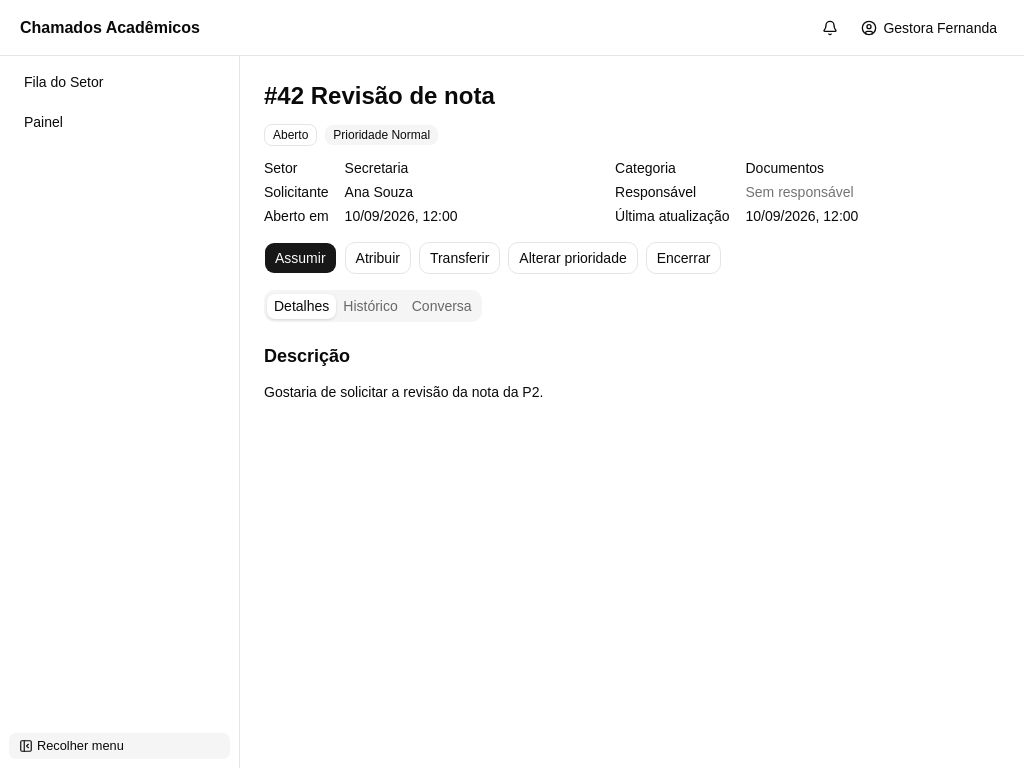
it: AssignDialog (BR8.5, US3.1) › assigns the chosen person and closes the dialog
Expected: the heading "#42 Revisão de nota" is shown, 264,82 -> 495,109
Click the button with test id "ticket-actions-assign-button". click: (378, 258)
box: 345,242 -> 411,274
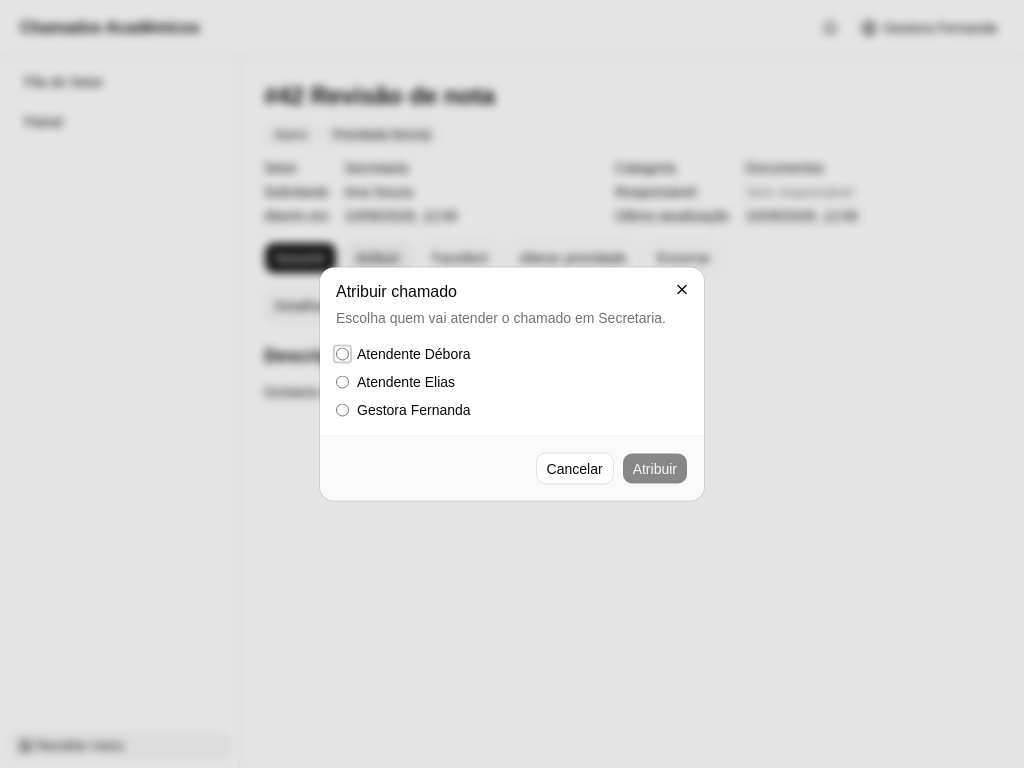
Click the radio button labelled "Atendente Elias". click: (342, 382)
box: 336,375 -> 349,388
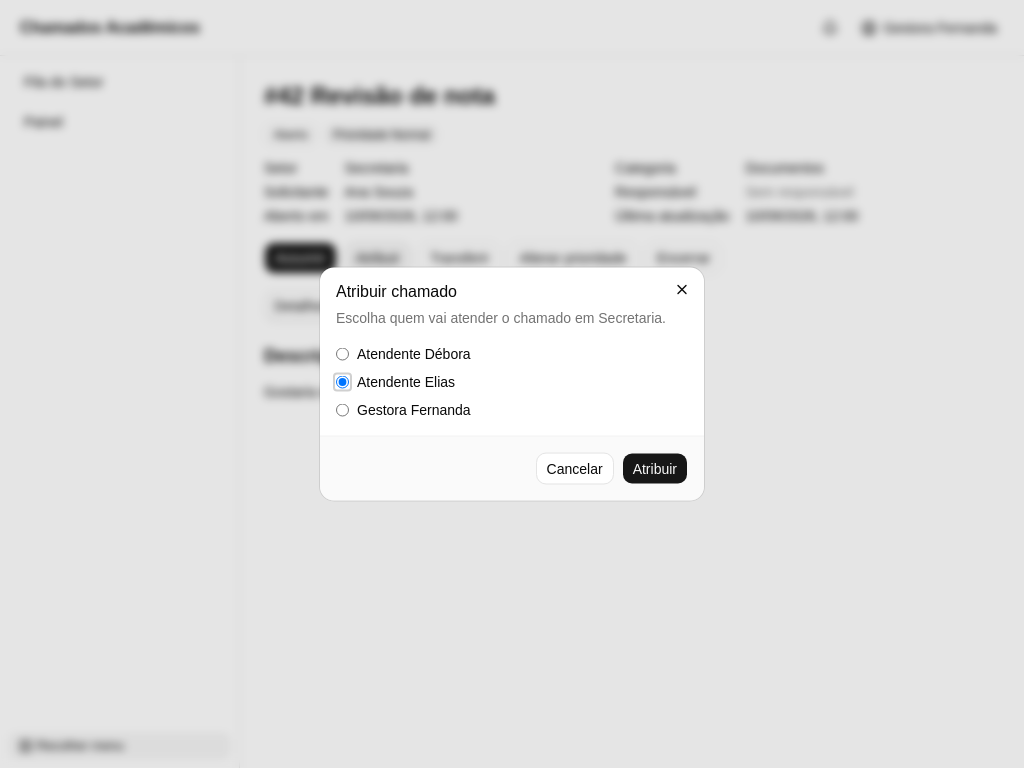
Click the button "Atribuir". click: (655, 468)
box: 622,452 -> 688,484
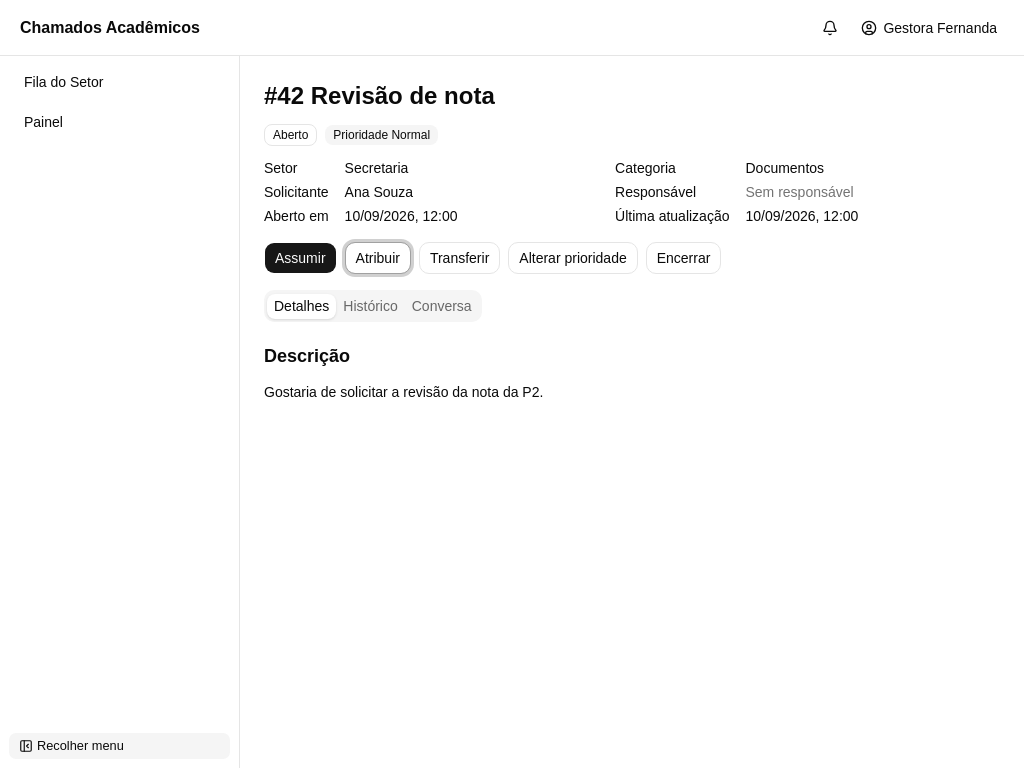
Now the dialog is gone
